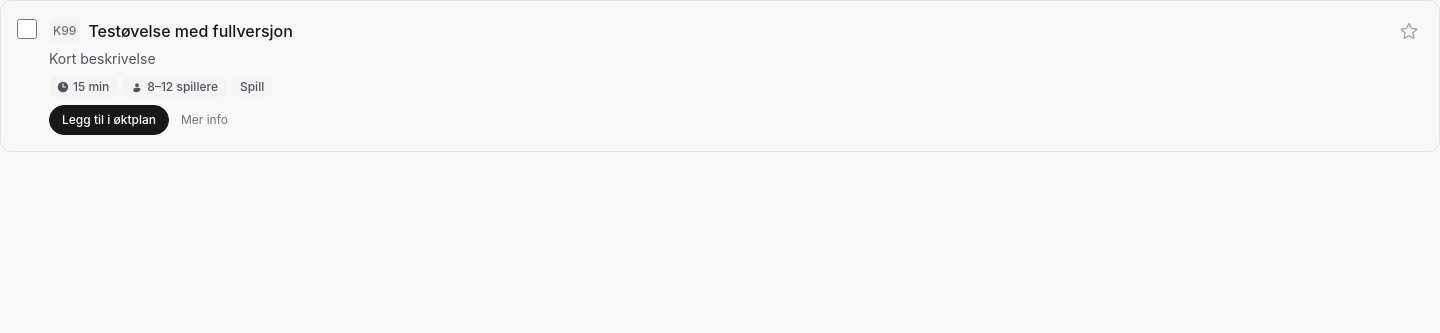
ExerciseCard › keeps coaching and variations collapsed in the expanded details view
The width and height of the screenshot is (1440, 333).
Click the button "Mer info".
click(204, 120)  # box [181,112,228,128]
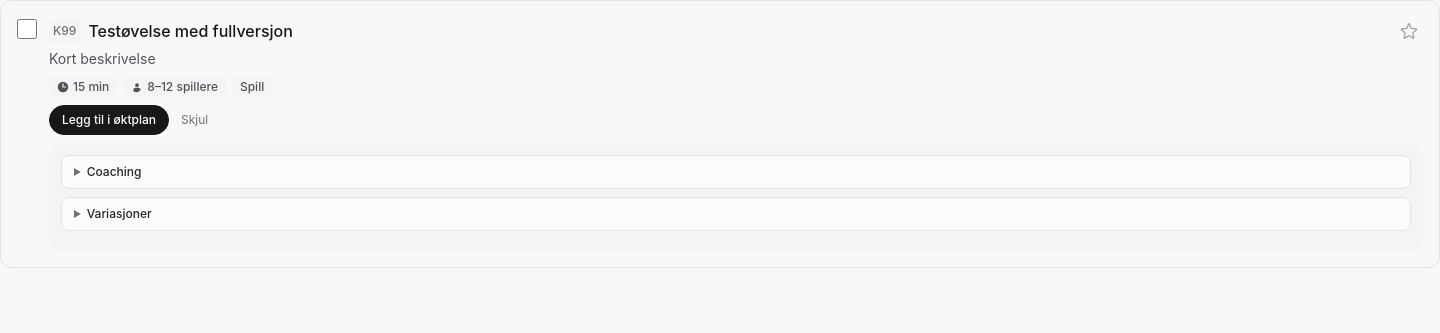
expect the text "Hold laget kompakt" is not shown: met
expect the text "Spill med maks to touch" is not shown: met
Click the heading "Coaching".
click(114, 172)  # box [87,164,142,179]
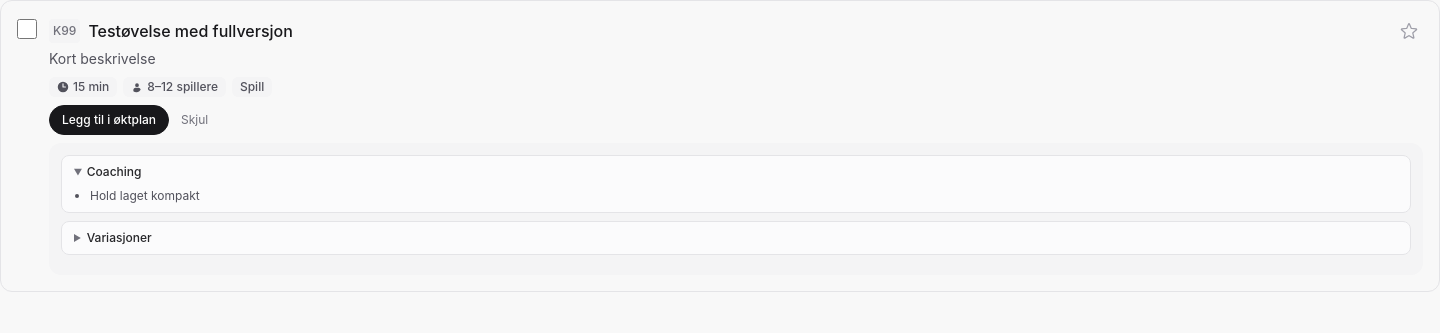
Click the heading "Variasjoner".
click(119, 238)  # box [87,230,152,245]
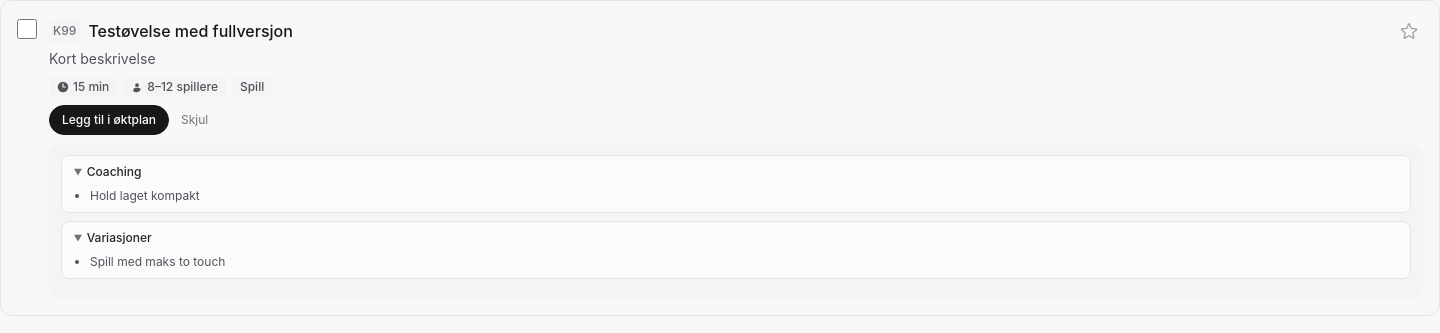
expect the checkbox labelled "Testøvelse med fullversjon" is not checked: met, box [17,19,37,39]
expect the list item "Hold laget kompakt" is shown: met, box [90,188,200,203]
expect the list item "Spill med maks to touch" is shown: met, box [90,254,225,269]
